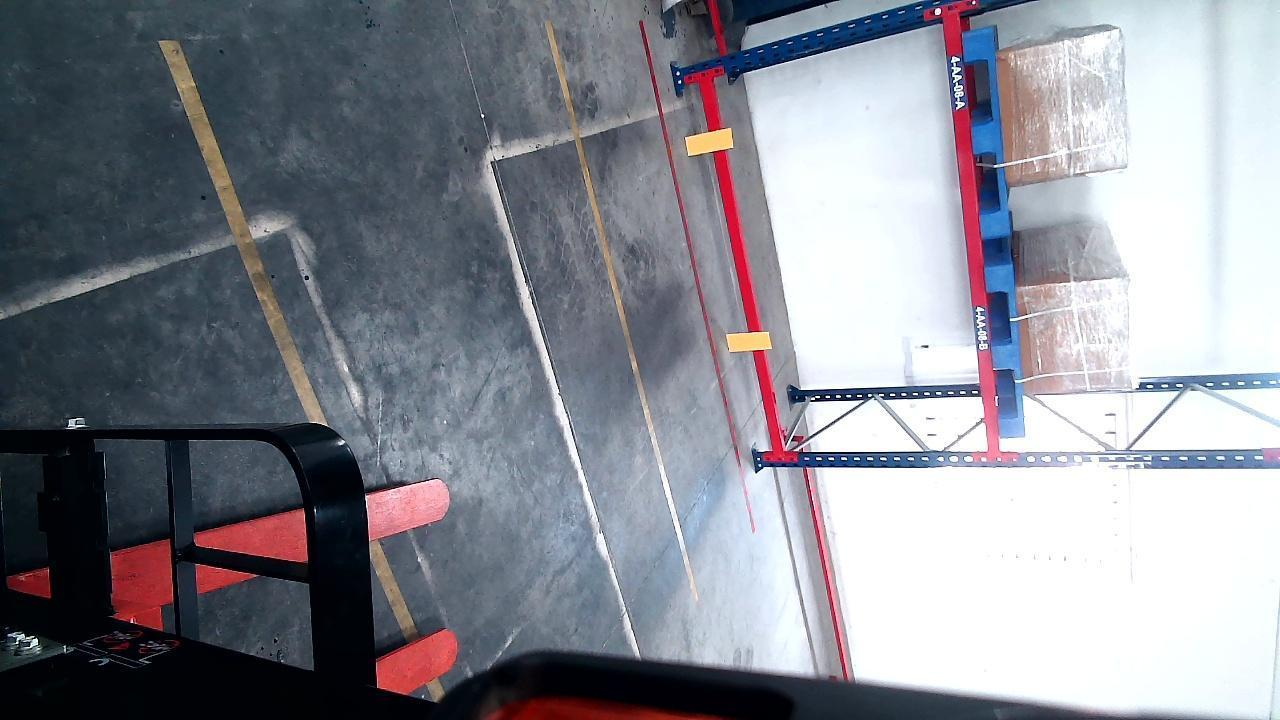h_rack: (696, 57, 787, 465), (938, 5, 1000, 447)
orange_strip: (720, 328, 774, 355), (685, 127, 732, 155)
red_line: (638, 17, 758, 543)
small_pallet: (965, 24, 1007, 235), (989, 262, 1024, 439)
yellow_line: (159, 37, 417, 637), (543, 7, 707, 611)
